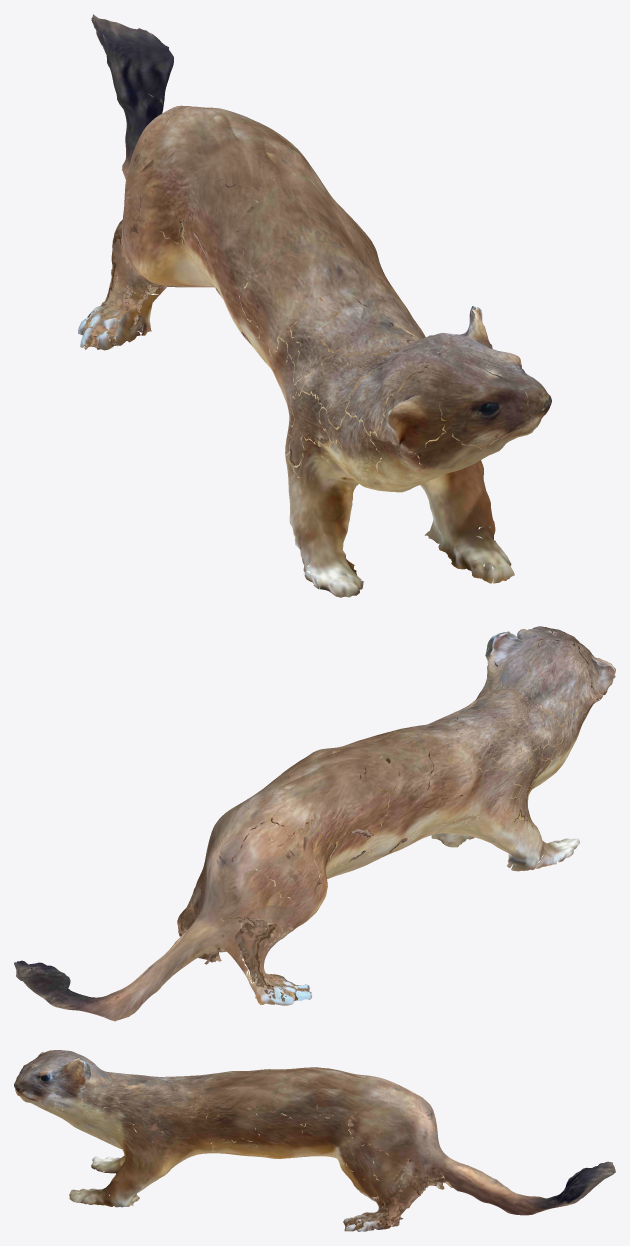
File: stoat.glb
The picture shows the model from 3 angles, top to bottom: view 1: azimuth 30°, elevation 25°; view 2: azimuth 150°, elevation 25°; view 3: azimuth 270°, elevation 25°; orthographic projection. The views are drawn at different scales.
Bounding box in the file's own units: 6.24 × 4.92 × 19.86.
1 material, 1 textured.
